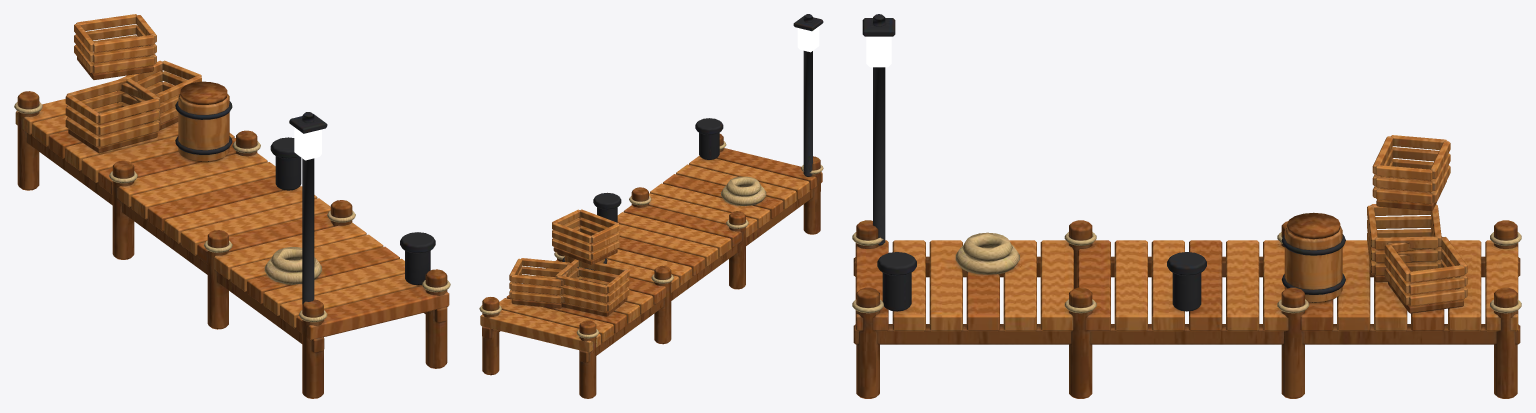
File: dock.glb
The picture shows the model from 3 angles, left to right: view 1: azimuth 30°, elevation 25°; view 2: azimuth 150°, elevation 25°; view 3: azimuth 270°, elevation 25°; orthographic projection. The views are drawn at different scales.
Parts seen in each view (by area): view 1: dock; view 2: dock; view 3: dock.
Boxes of the visible parts, left/top/right/bottom form: dock: left=14, top=14, right=450, bottom=398; dock: left=479, top=14, right=823, bottom=398; dock: left=852, top=14, right=1521, bottom=398.
Bounding box in the file's own units: 0.53 × 0.95 × 1.85.
Materials: 1 (1 with a texture image).
